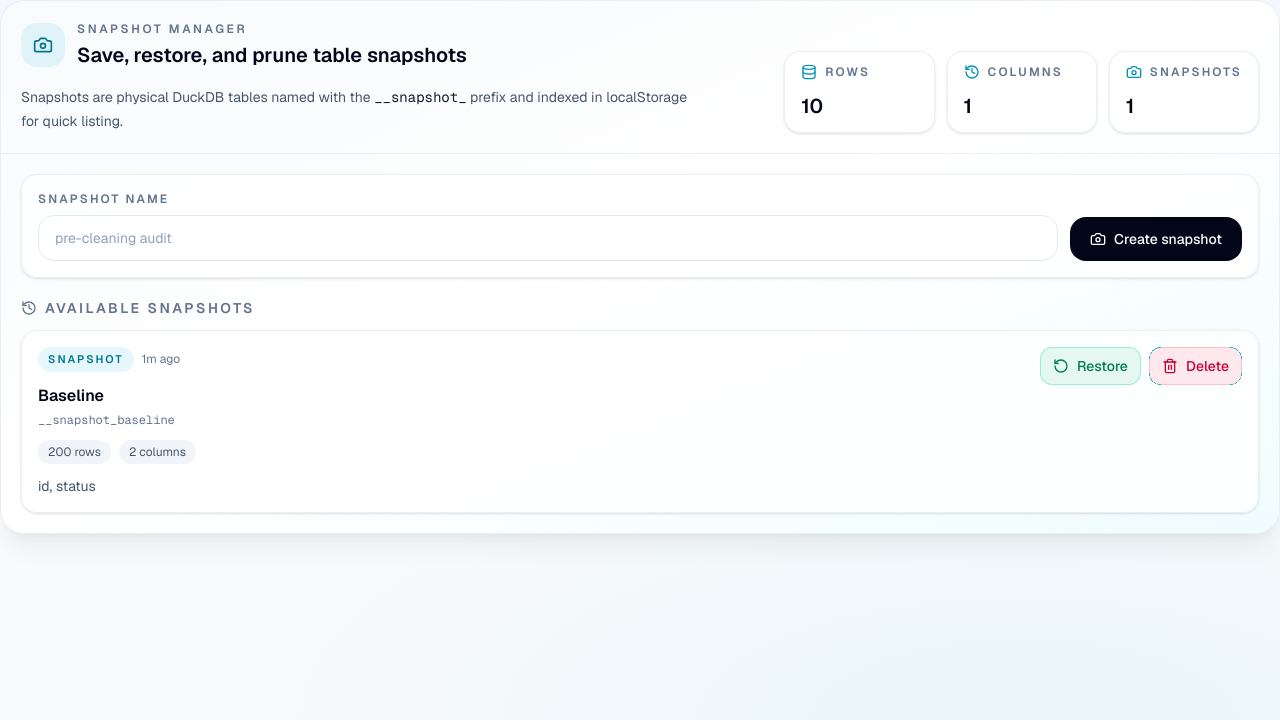
Test case: SnapshotManager › restores an existing snapshot after confirmation
Step 1. Click the button "Restore" → {"x": 1090, "y": 366}, box [1040,347,1141,385]
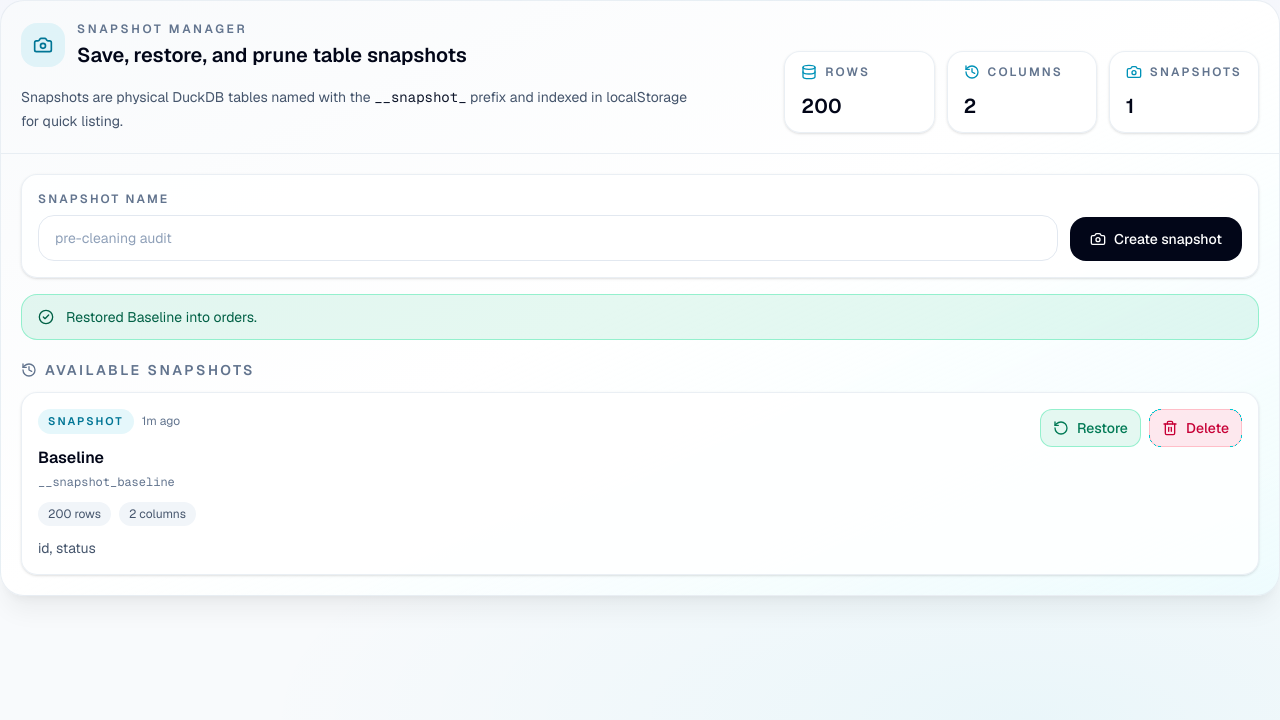
Check: the text "Restored Baseline into orders." is shown, box [66,307,257,327]
